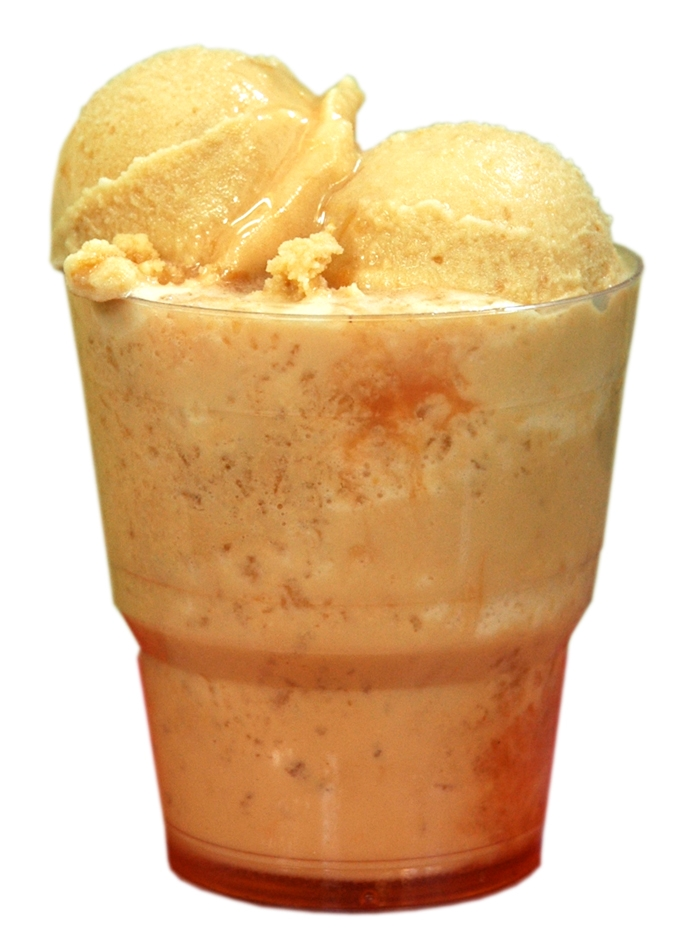jigirthanda: (104, 89, 553, 312)
